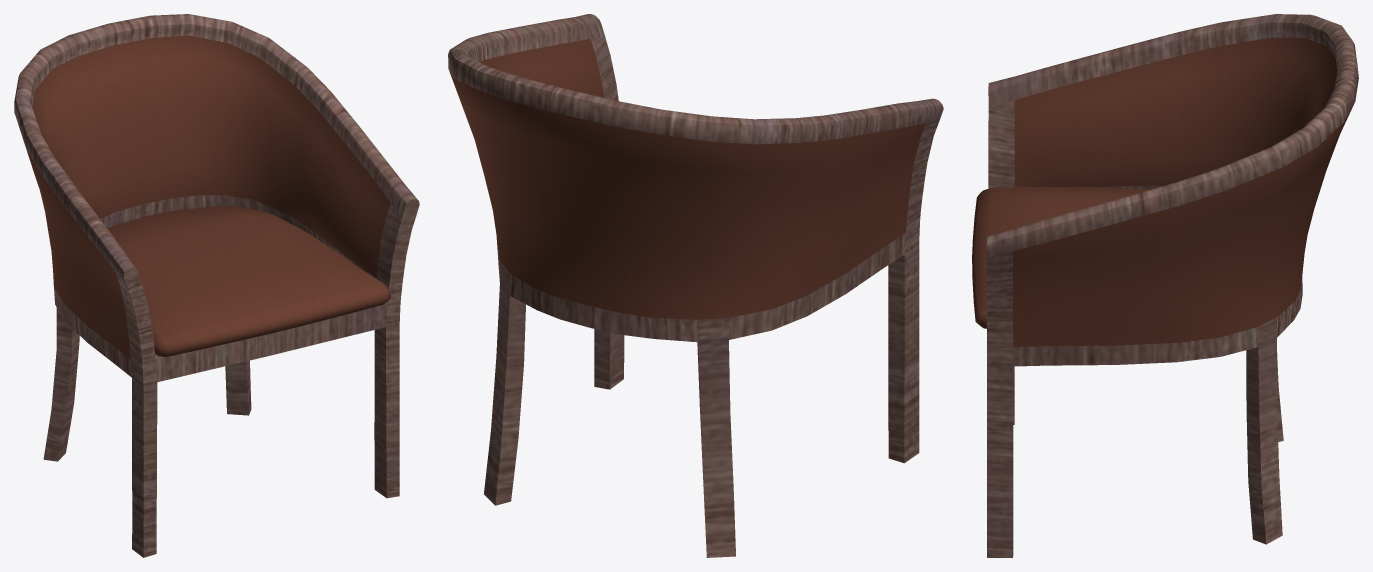
Rendered from MesaSilla2.fbx.
3 views of the same model, side by side, from view 1: azimuth 30°, elevation 25°; view 2: azimuth 150°, elevation 25°; view 3: azimuth 270°, elevation 25° (orthographic). The views are drawn at different scales.
Parts seen in each view (by area): view 1: SillaPublico; view 2: SillaPublico; view 3: SillaPublico.
Boxes of the visible parts, x1,y1,x2,y2 form: SillaPublico: (14, 14, 419, 557); SillaPublico: (448, 14, 943, 557); SillaPublico: (972, 14, 1358, 557).
Bounding box in the file's own units: 294 × 365 × 299.
